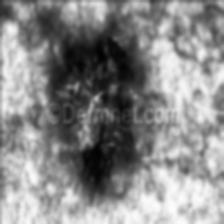Potentially Malignant Skin Tumors: (45, 22, 132, 102), (54, 126, 140, 190)
